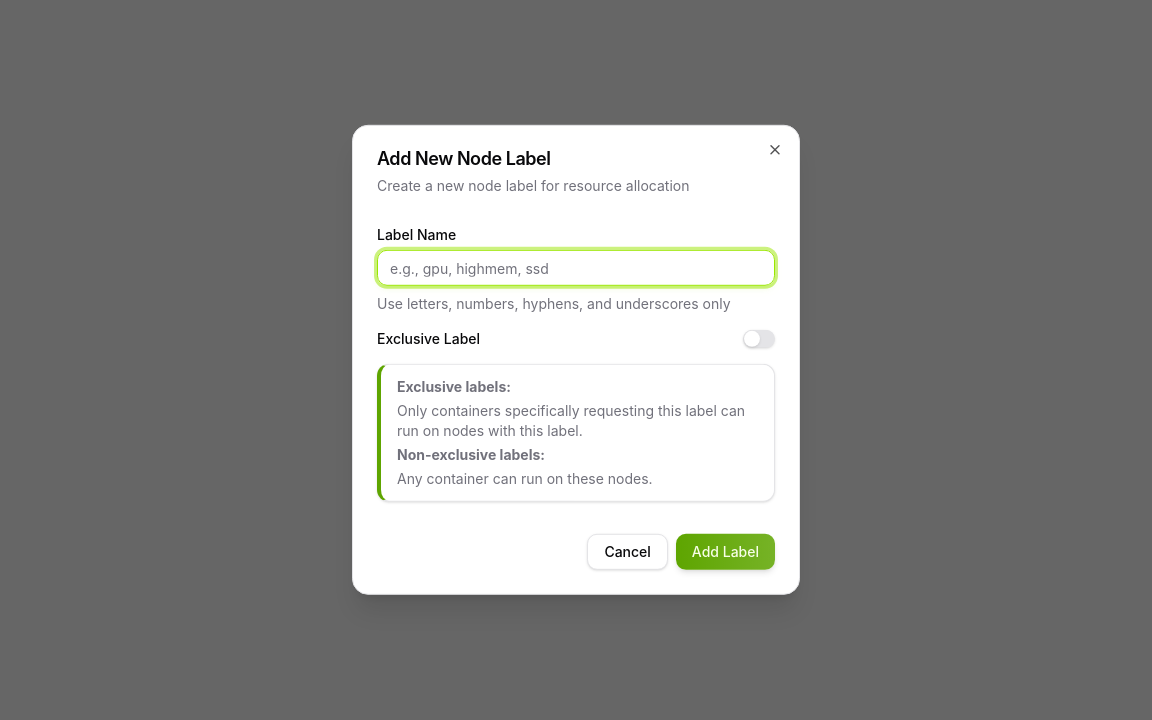
Test: AddLabelDialog › Validation › should validate empty label name
Click the button "Add Label".
click(725, 552)  # box [676,534,775,570]
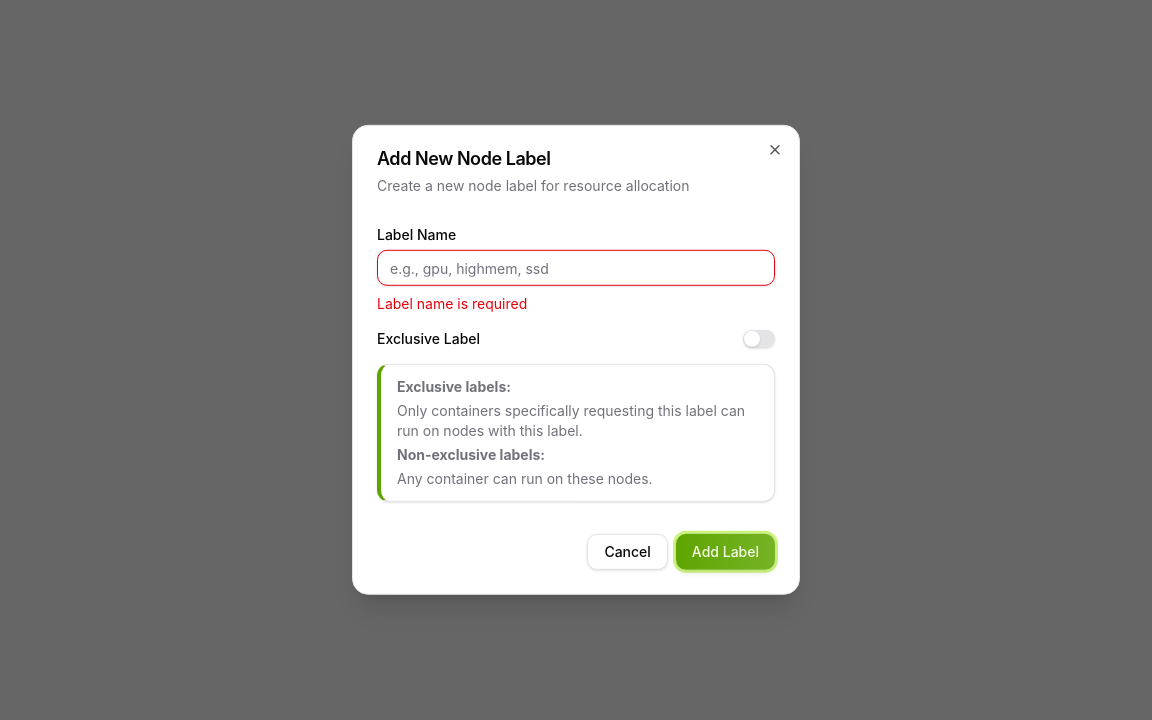
expect the text "Label name is required" is shown: met, box [377,295,527,312]
